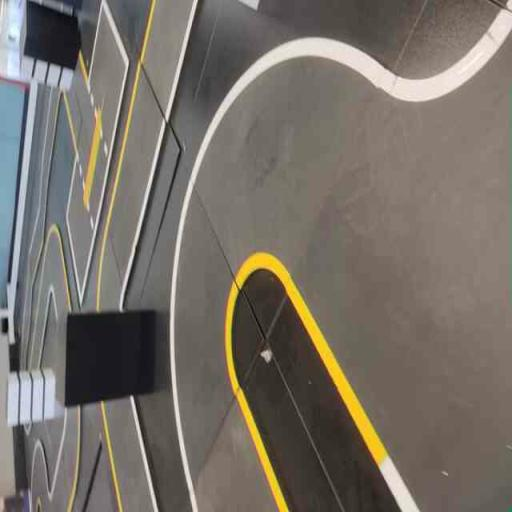left: (189, 14, 403, 340)
